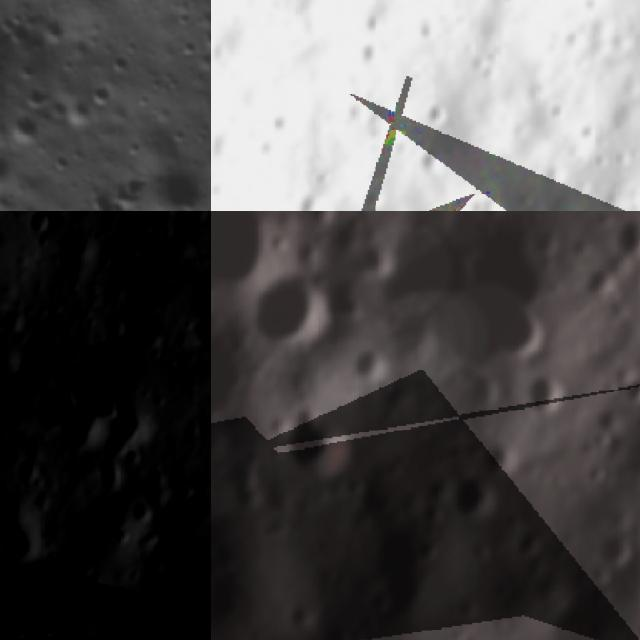crater: (390, 238, 558, 372), (242, 270, 338, 354), (211, 326, 269, 432), (211, 211, 284, 292), (285, 409, 363, 483), (158, 552, 211, 640), (133, 152, 211, 211), (448, 470, 503, 528), (515, 369, 571, 423), (496, 307, 550, 362), (59, 180, 151, 211), (232, 450, 273, 505), (592, 526, 637, 572), (322, 281, 369, 323), (482, 431, 524, 474), (358, 235, 400, 277), (581, 264, 624, 305), (331, 211, 368, 257), (529, 221, 569, 263), (366, 580, 400, 620), (610, 215, 640, 260), (352, 342, 394, 374), (464, 368, 501, 404), (510, 528, 547, 564), (615, 362, 640, 409), (591, 402, 627, 431), (416, 498, 450, 526), (412, 530, 439, 564), (313, 618, 350, 640), (590, 422, 616, 448), (303, 211, 336, 222)
